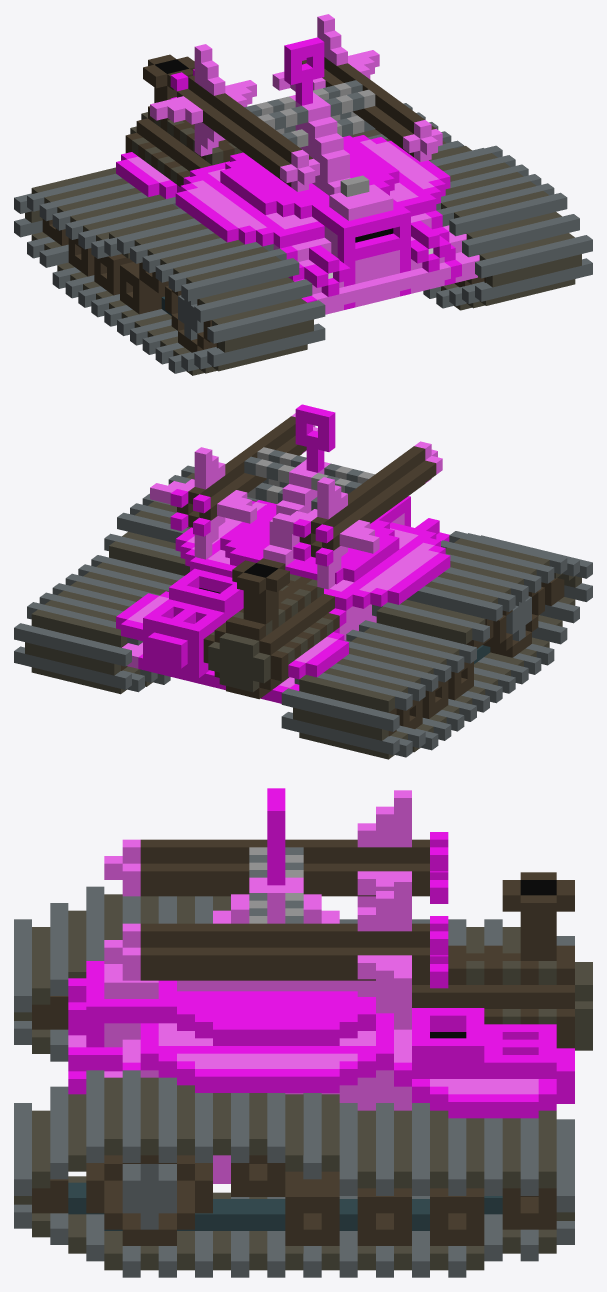
The model's file is rocket_artillery.obj.
The picture shows the model from 3 angles, top to bottom: view 1: azimuth 30°, elevation 25°; view 2: azimuth 150°, elevation 25°; view 3: azimuth 270°, elevation 25°; orthographic projection. The views are drawn at different scales.
Bounding box in the file's own units: 3.4 × 2.1 × 3.2.
Materials: 1 (1 with a texture image).
